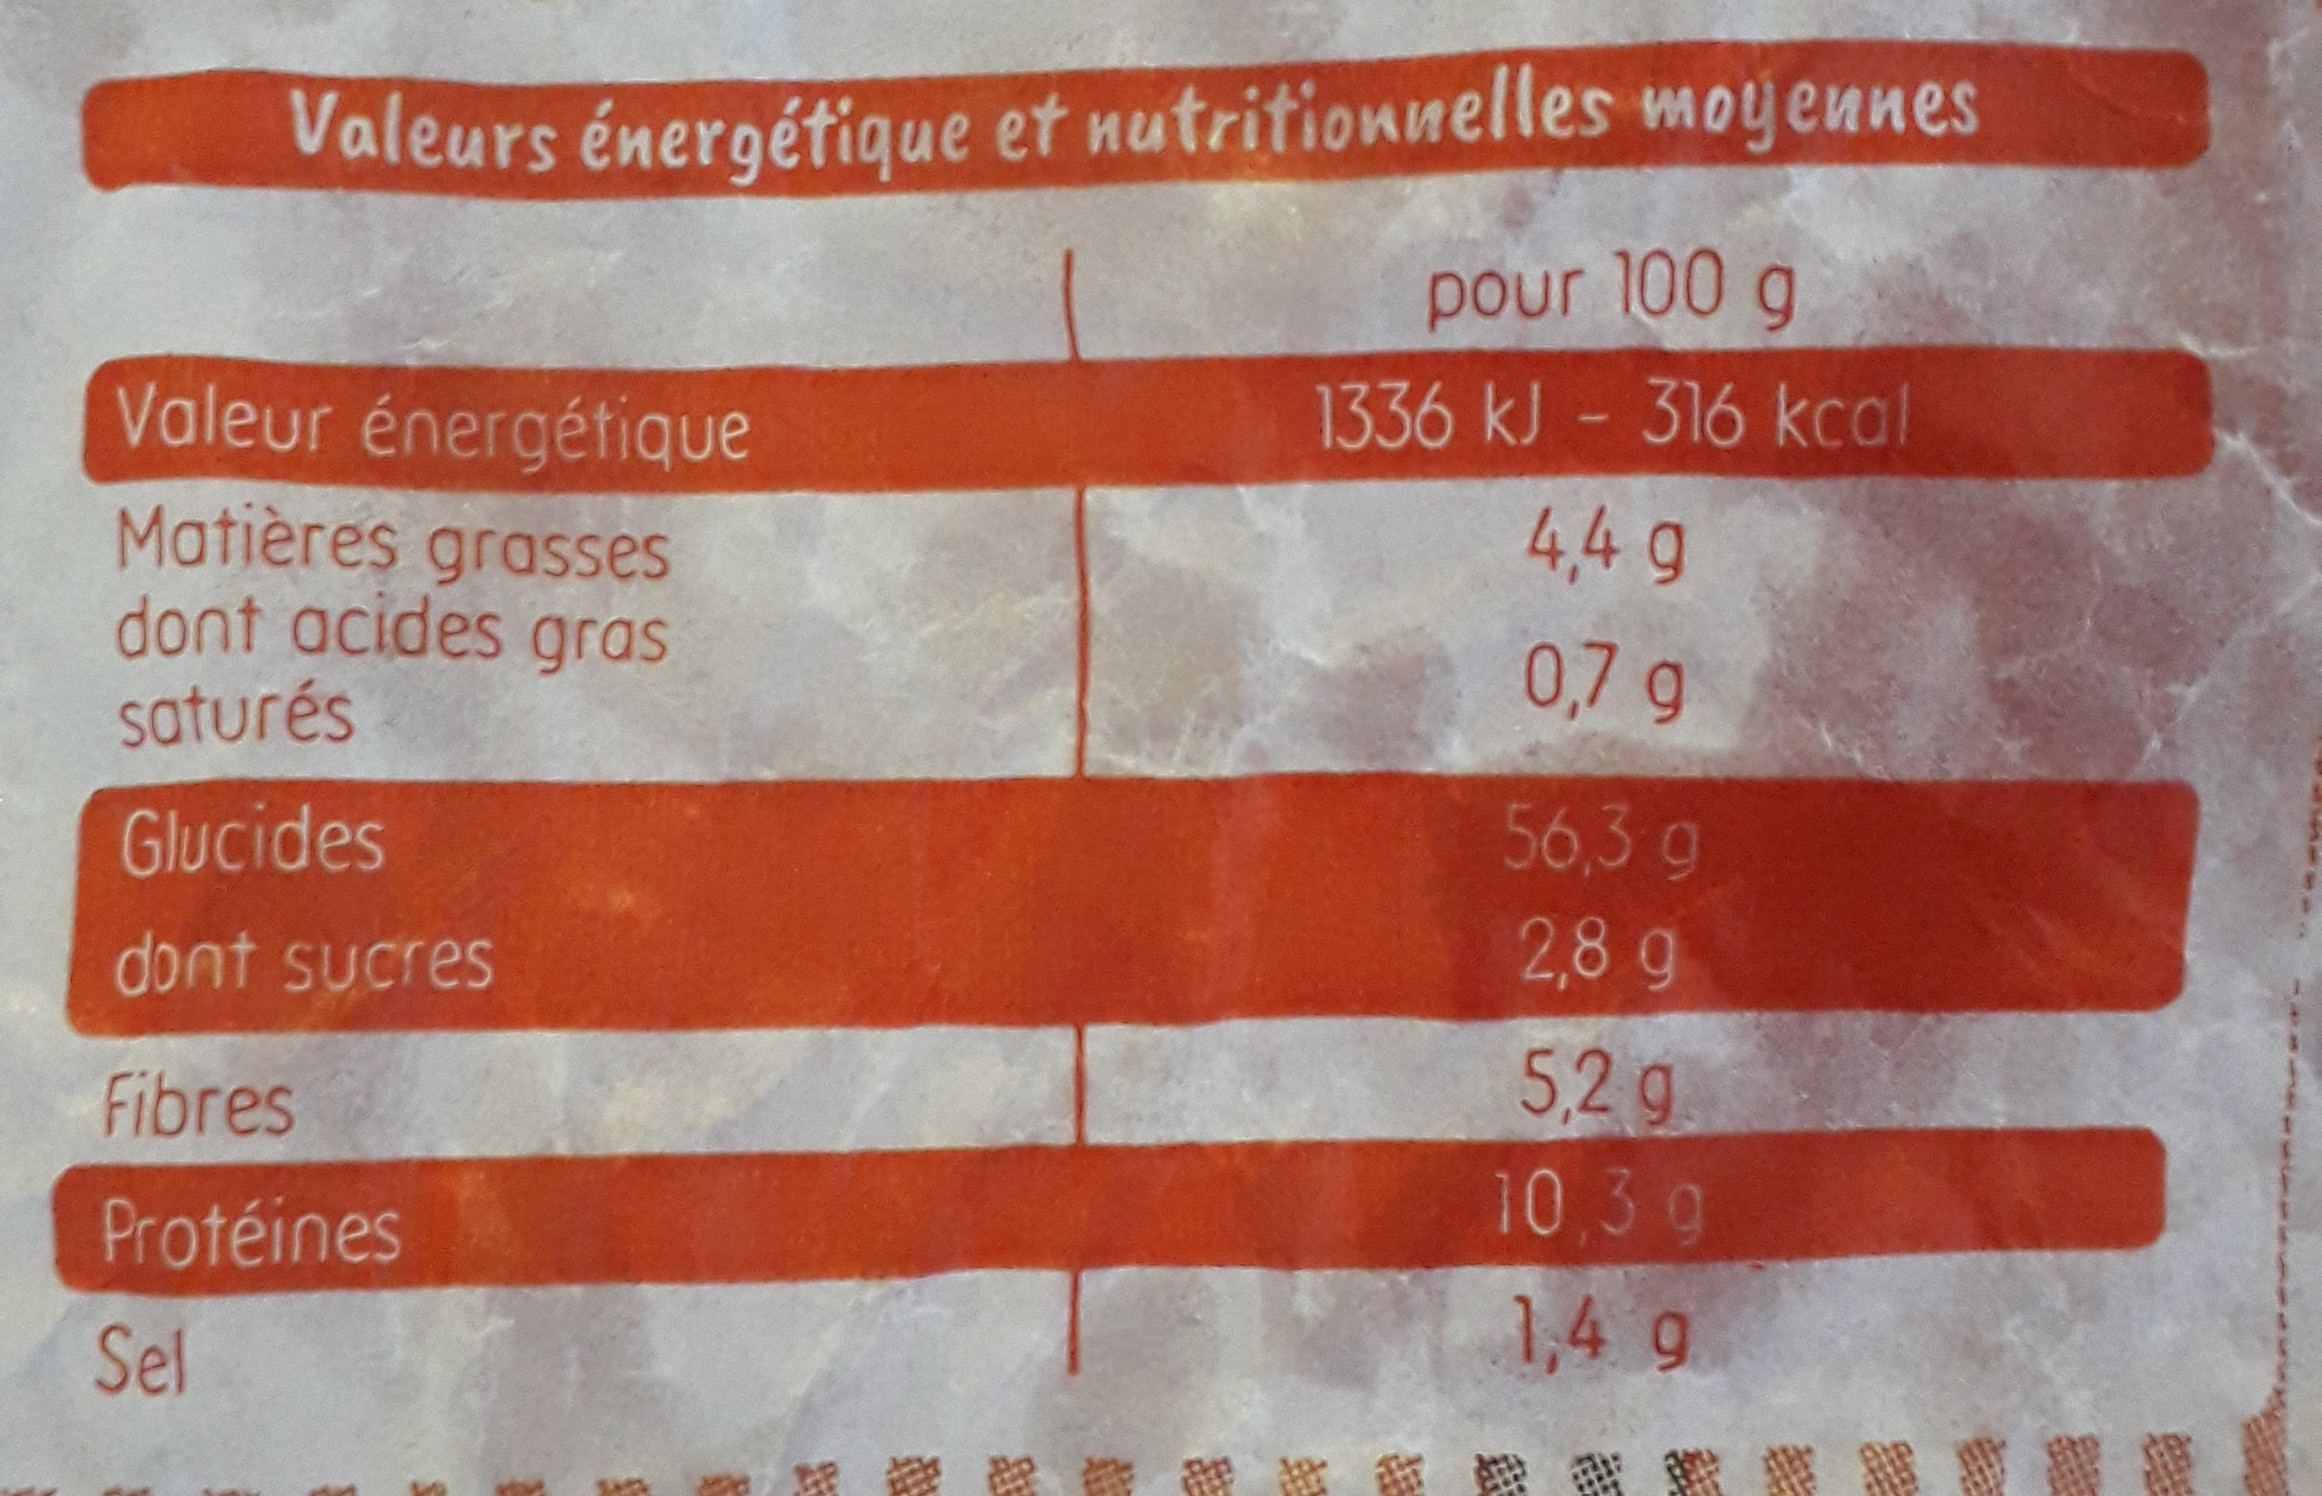column: (1308, 249, 1914, 1374), (95, 377, 755, 1396)
table: (54, 47, 2219, 1400)
